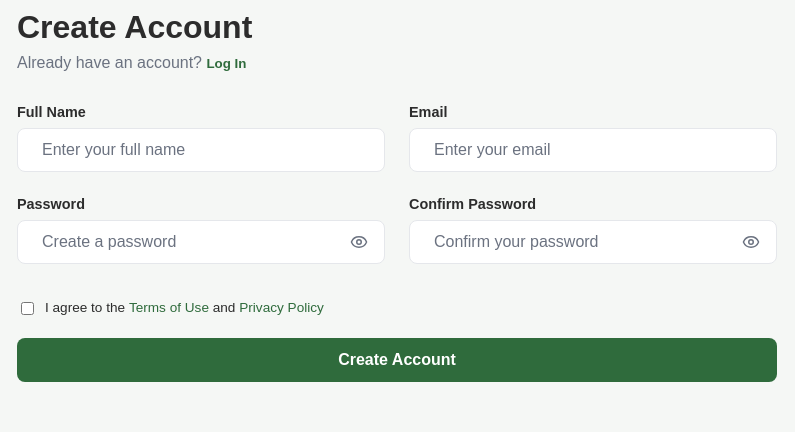
Test: RegisterForm › shows an error when the passwords do not match
Type "Anna Andersson" into the field labelled "Full Name".
click(201, 150); type("Anna Andersson")  # box [30,129,372,171]
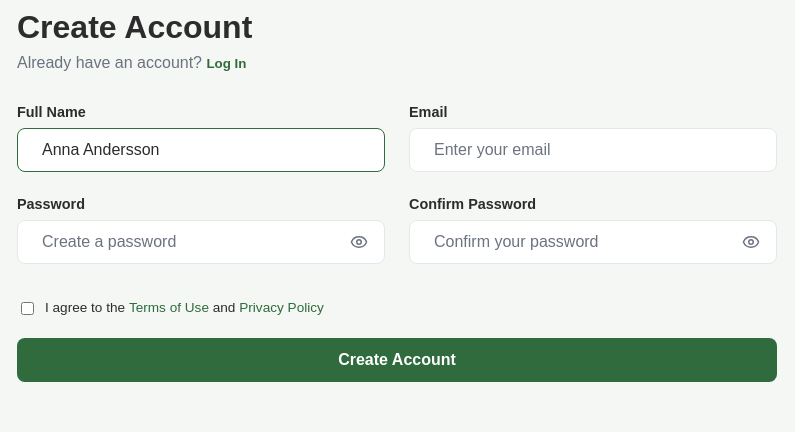
Type "anna@example.com" into the field labelled "Email".
click(593, 150); type("anna@example.com")  # box [422,129,764,171]
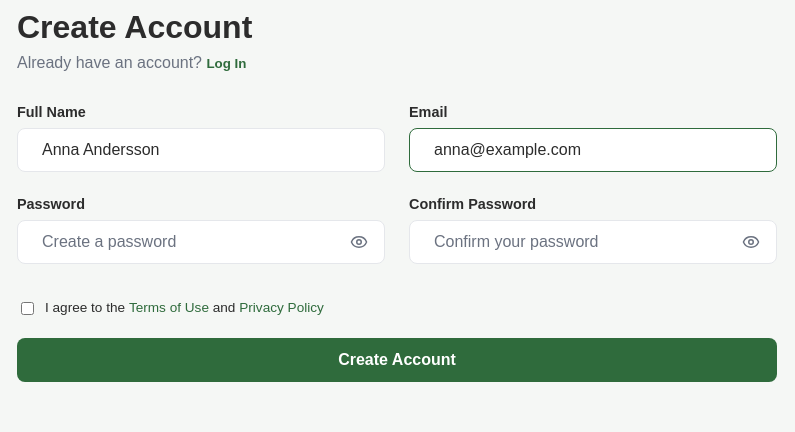
Type "secret123" into the password field labelled "Password".
click(188, 242); type("secret123")  # box [30,221,346,263]
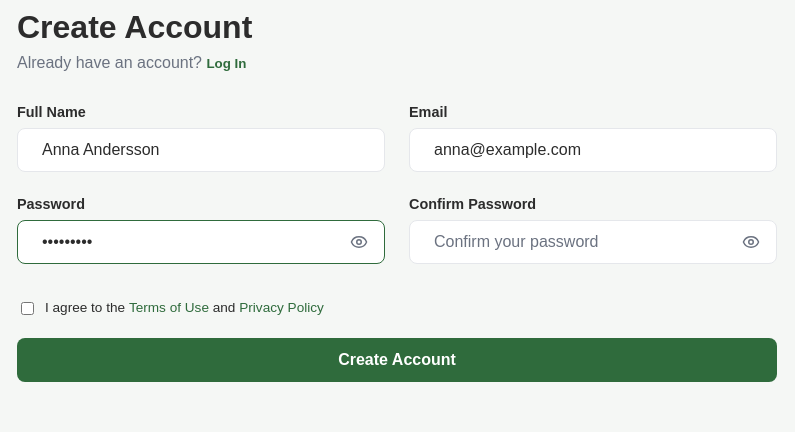
Type "different123" into the password field labelled "Confirm Password".
click(580, 242); type("different123")  # box [422,221,738,263]
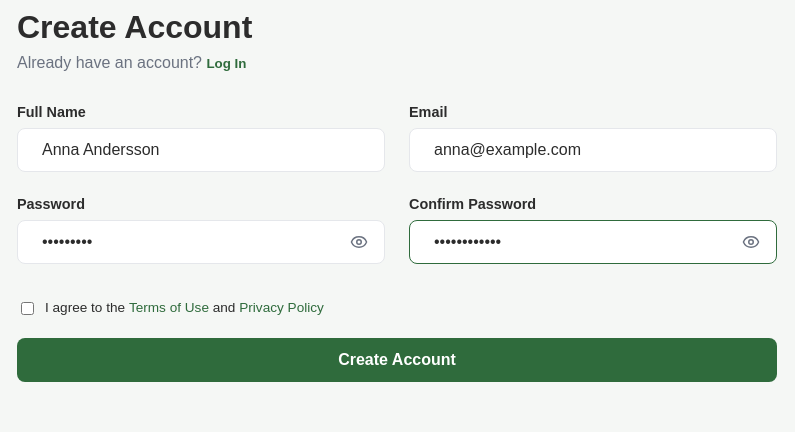
Click the checkbox.
click(28, 308)  # box [21,302,34,315]
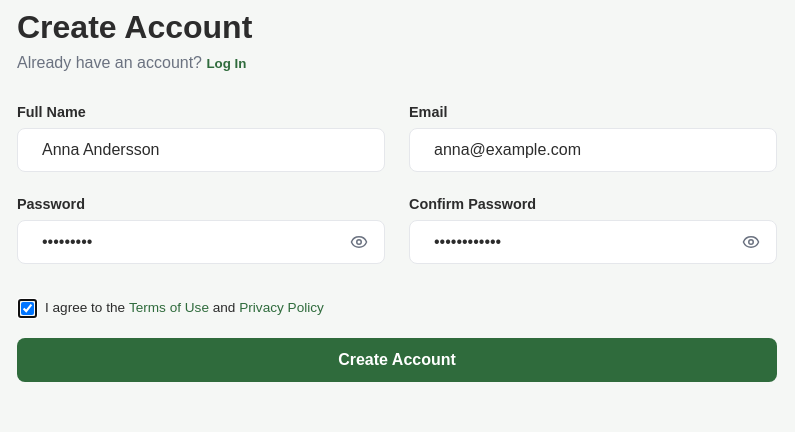
Click the button "Create Account".
click(397, 360)  # box [17,338,777,382]
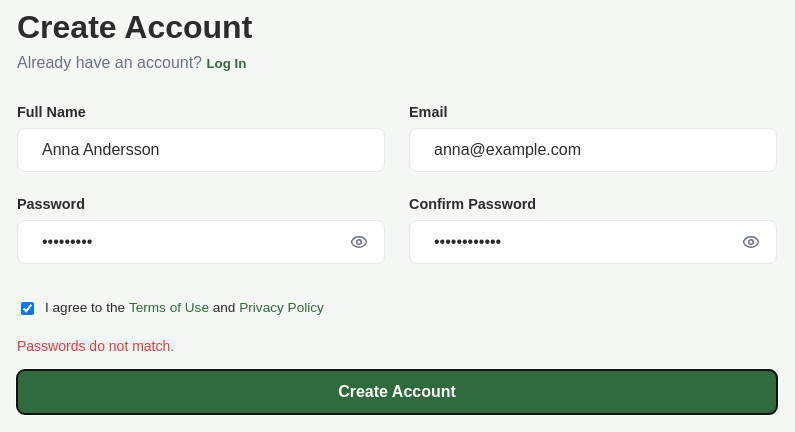
Now the text "Passwords do not match." is shown, box [17,338,174,354]
